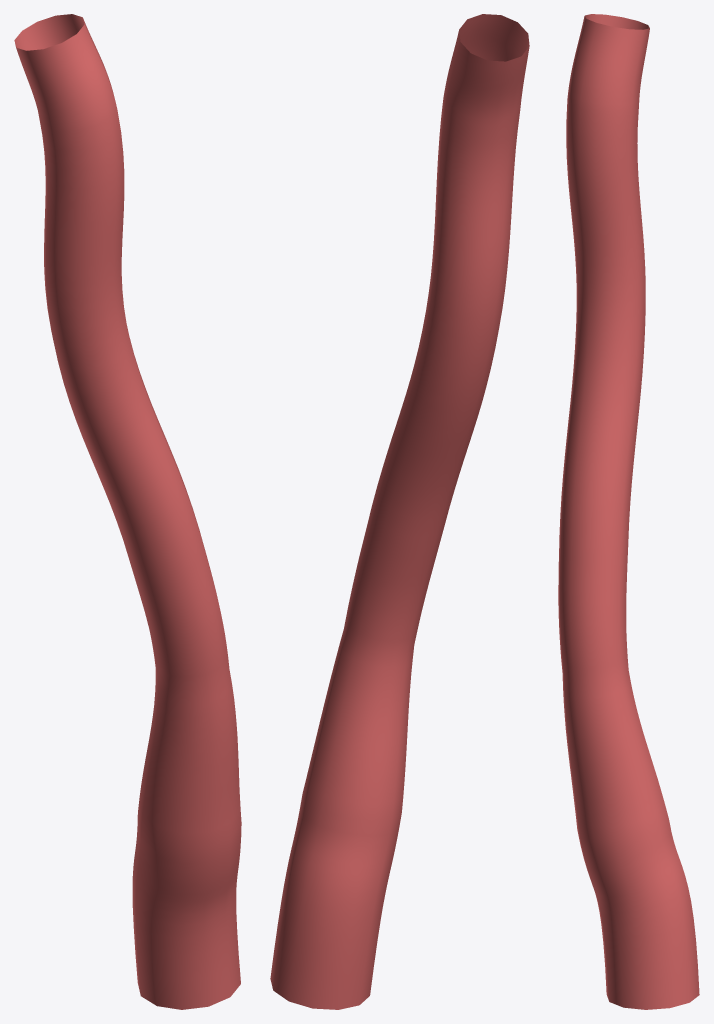
The model's file is External_carotid_artery.r_BezierCurve.269.glb.
The picture shows the model from 3 angles, left to right: view 1: azimuth 30°, elevation 25°; view 2: azimuth 150°, elevation 25°; view 3: azimuth 270°, elevation 25°; orthographic projection. The views are drawn at different scales.
Parts seen in each view (by area): view 1: External_carotid_artery.r_BezierCurve.269; view 2: External_carotid_artery.r_BezierCurve.269; view 3: External_carotid_artery.r_BezierCurve.269.
Boxes of the visible parts, left/top/right/bottom form: External_carotid_artery.r_BezierCurve.269: left=14, top=14, right=241, bottom=1009; External_carotid_artery.r_BezierCurve.269: left=270, top=14, right=529, bottom=1009; External_carotid_artery.r_BezierCurve.269: left=558, top=14, right=699, bottom=1009.
Bounding box in the file's own units: 0.0181 × 0.0753 × 0.0105.
